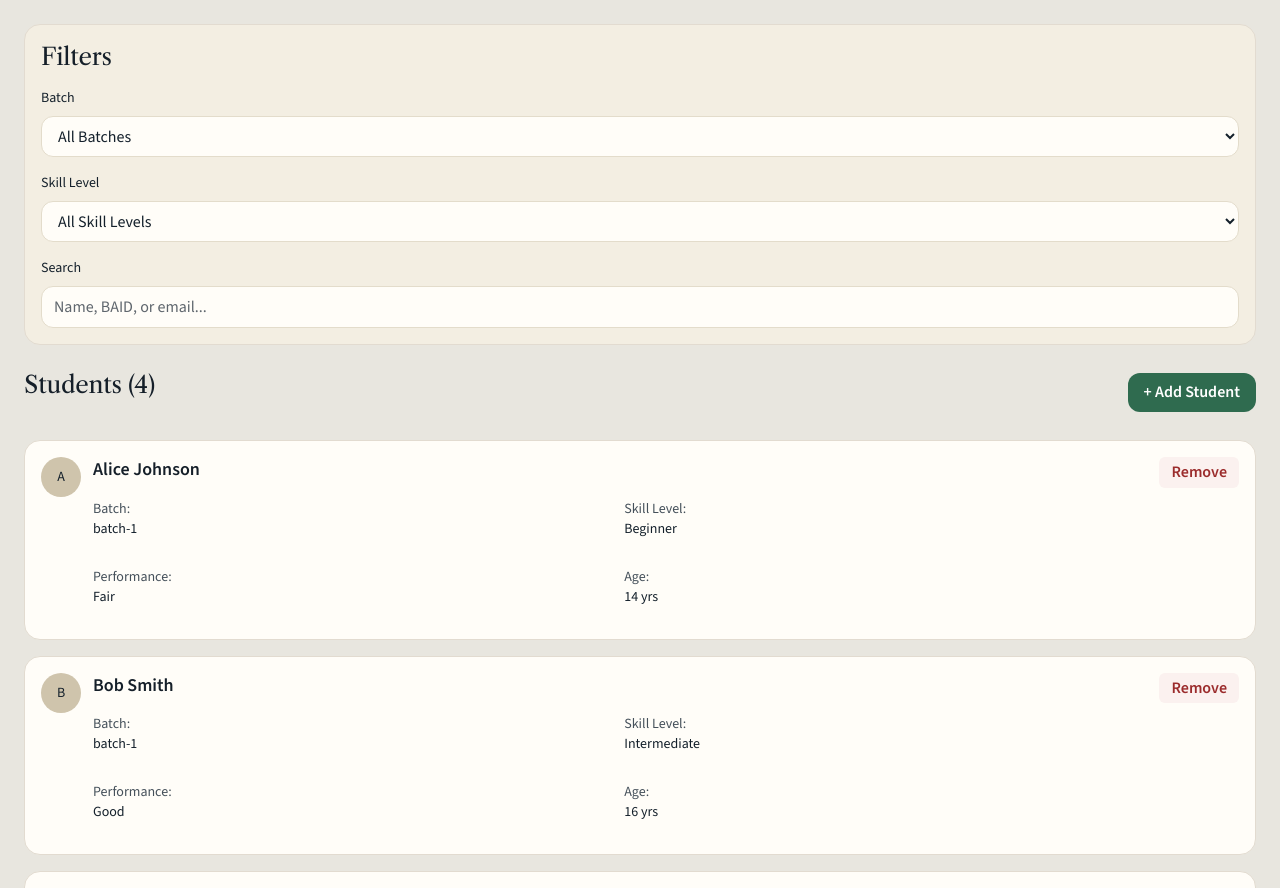
CoachStudentsTab › Filtering › filters students by skill level
Select "Advanced" in the dropdown named "Filter by skill level" at point(640, 222), box 41,201 -> 1239,242
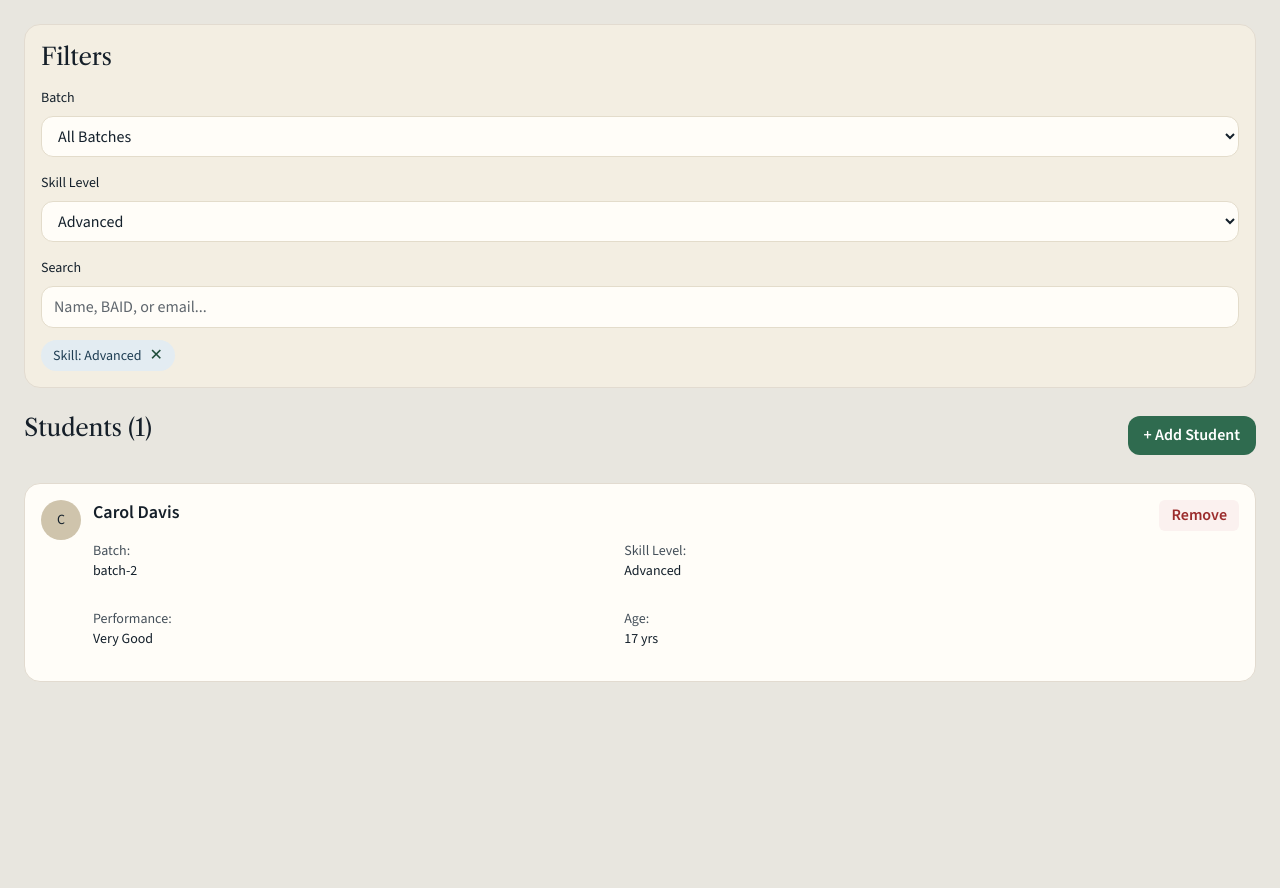
Expected: the heading "Carol Davis" is shown, 93,500 -> 180,524
Expected: the button "Alice Johnson" is gone
Expected: the button "Bob Smith" is gone
